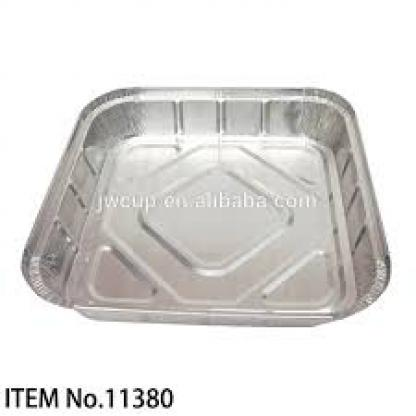METAL: (19, 87, 390, 322)
